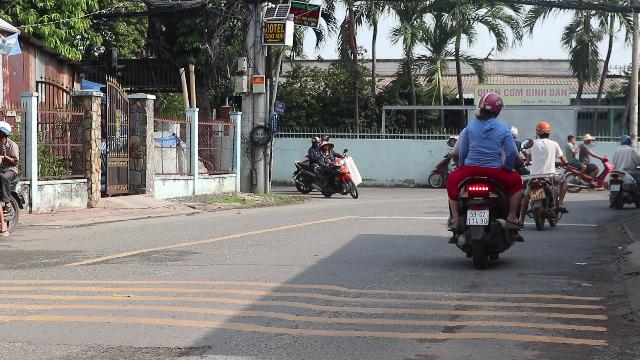helmet: (476, 92, 504, 120), (534, 120, 550, 138)
licenseplate: (468, 210, 488, 226), (528, 188, 546, 200)
motorcyclist: (440, 92, 526, 266), (523, 120, 569, 228)
